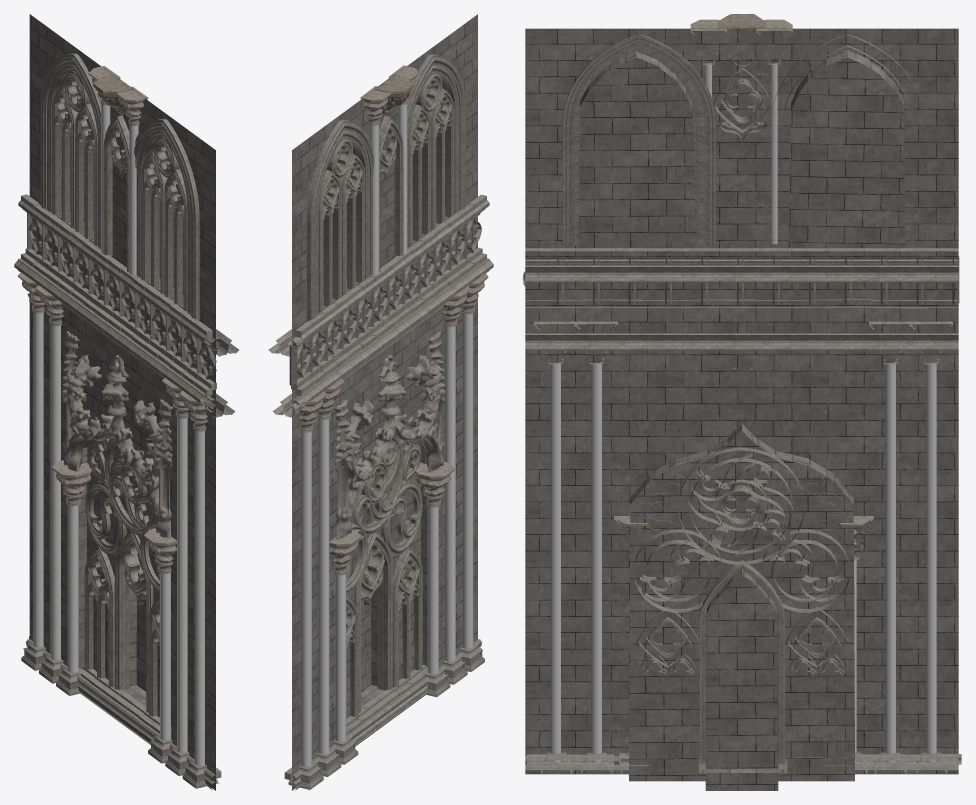
Rendered from SM_InteriorWall_A_01.fbx.
The picture shows the model from 3 angles, left to right: view 1: azimuth 30°, elevation 25°; view 2: azimuth 150°, elevation 25°; view 3: azimuth 270°, elevation 25°; orthographic projection. The views are drawn at different scales.
Parts seen in each view (by area): view 1: SM_InteriorWall_A_01_LOD0; view 2: SM_InteriorWall_A_01_LOD0; view 3: SM_InteriorWall_A_01_LOD0.
Boxes of the visible parts, <box> form: SM_InteriorWall_A_01_LOD0: <box>14,14,239,790</box>; SM_InteriorWall_A_01_LOD0: <box>268,14,493,790</box>; SM_InteriorWall_A_01_LOD0: <box>522,14,961,790</box>.
Size of the model in its own units: 192 by 1014 by 1902.
